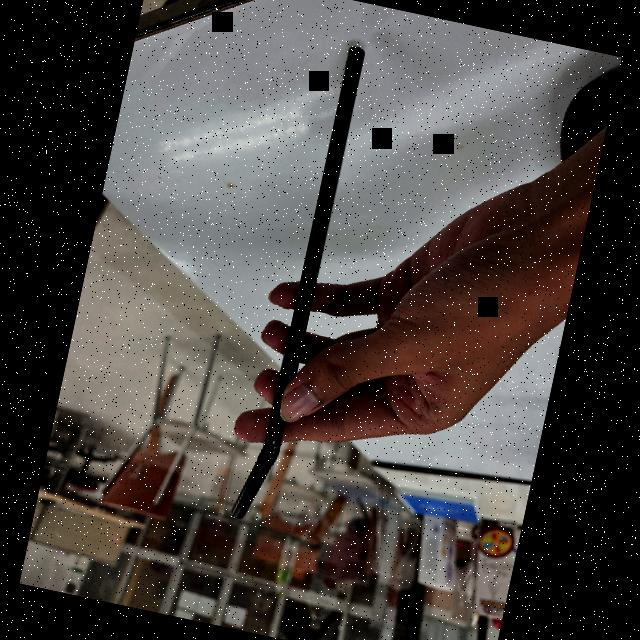straw: (222, 36, 378, 530)
